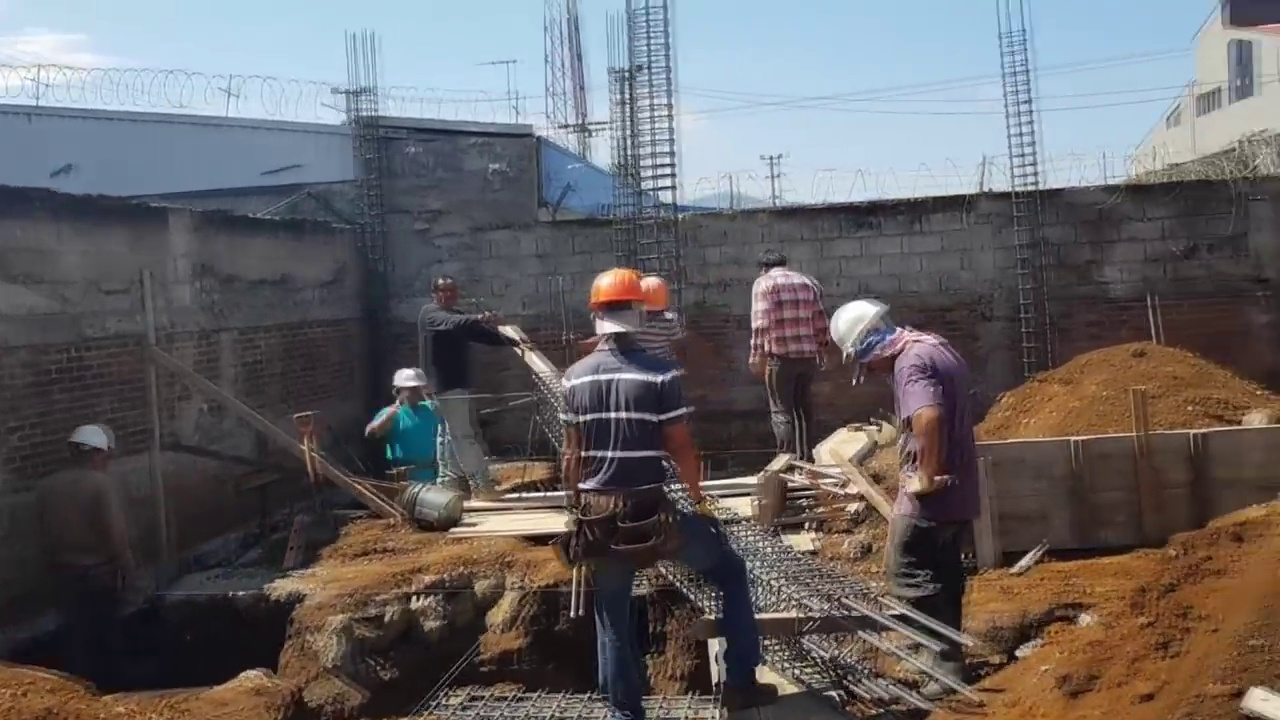helmet: (833, 298, 885, 360), (581, 271, 645, 317), (55, 416, 120, 456), (640, 272, 674, 314), (388, 368, 427, 394)
helmet-off: (425, 280, 455, 309), (760, 253, 792, 279)
helmet-on: (830, 294, 908, 385), (583, 267, 646, 358), (57, 424, 121, 475), (641, 271, 674, 324), (387, 368, 429, 409)
person: (562, 267, 716, 701), (830, 313, 988, 629), (32, 415, 139, 667), (418, 277, 514, 507), (747, 256, 832, 475), (364, 363, 455, 492), (628, 270, 691, 377)
